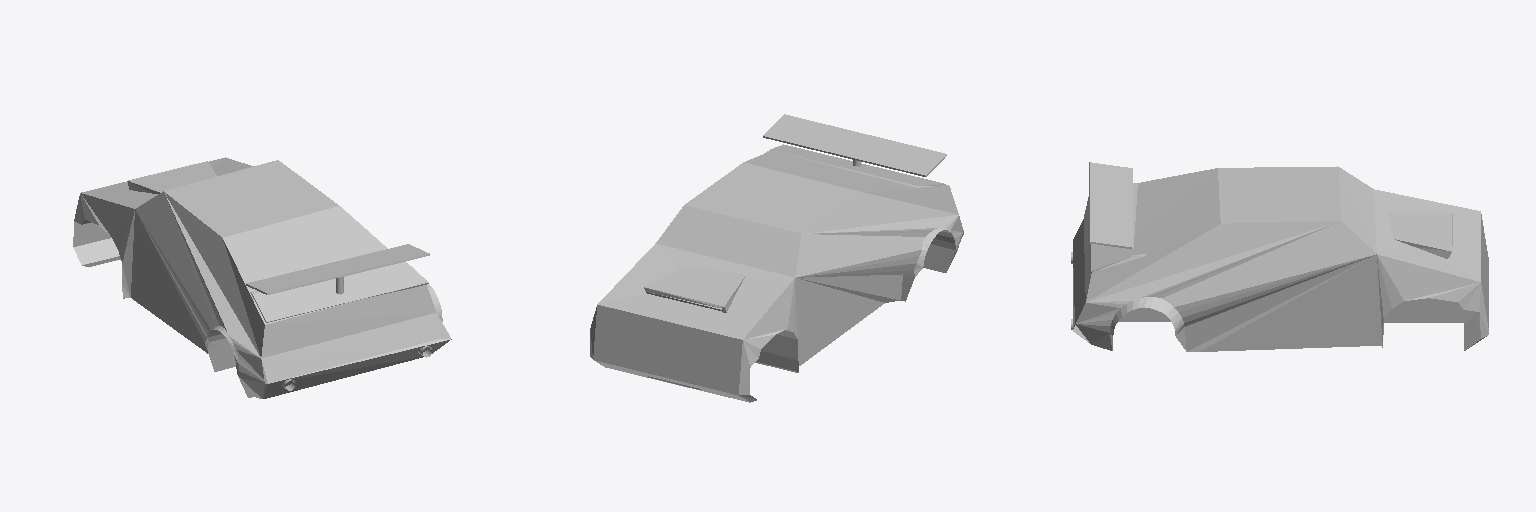
Rendered from sport_export.obj.
3 views of the same model, side by side, from view 1: azimuth 30°, elevation 25°; view 2: azimuth 150°, elevation 25°; view 3: azimuth 270°, elevation 25° (orthographic).
Visible parts, largest first — view 1: Cube.002_Cube.005; view 2: Cube.002_Cube.005; view 3: Cube.002_Cube.005.
Part boxes in pixels (left/top/right/bottom): Cube.002_Cube.005: left=73, top=157, right=451, bottom=398; Cube.002_Cube.005: left=590, top=114, right=963, bottom=402; Cube.002_Cube.005: left=1071, top=162, right=1488, bottom=351.
Size of the model in its own units: 3.69 by 2.07 by 6.45.